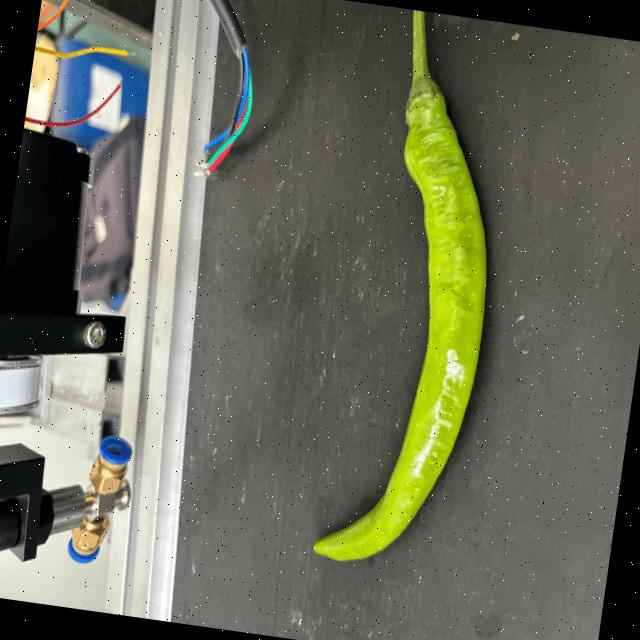chili: (308, 75, 486, 565)
